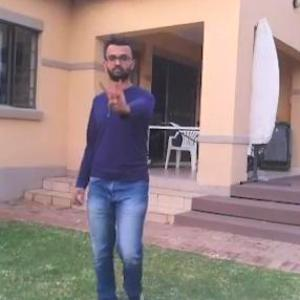takeoff-hand: (98, 74, 131, 118)
